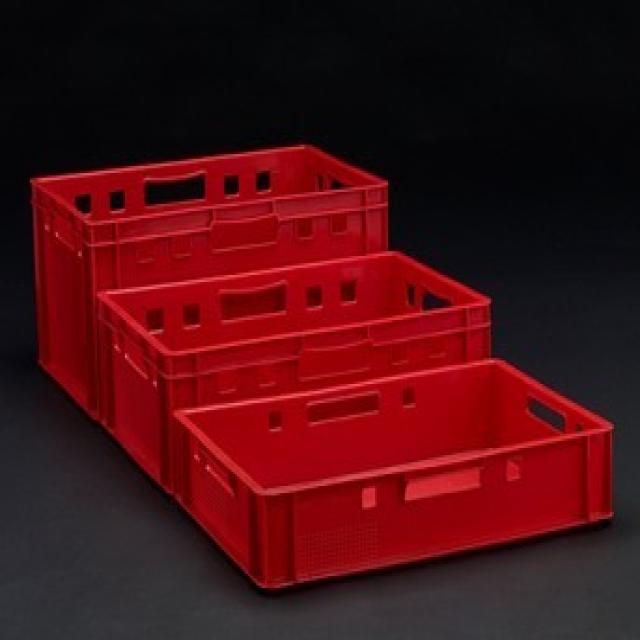basket: (0, 31, 416, 422), (55, 155, 511, 506), (158, 326, 632, 607)
